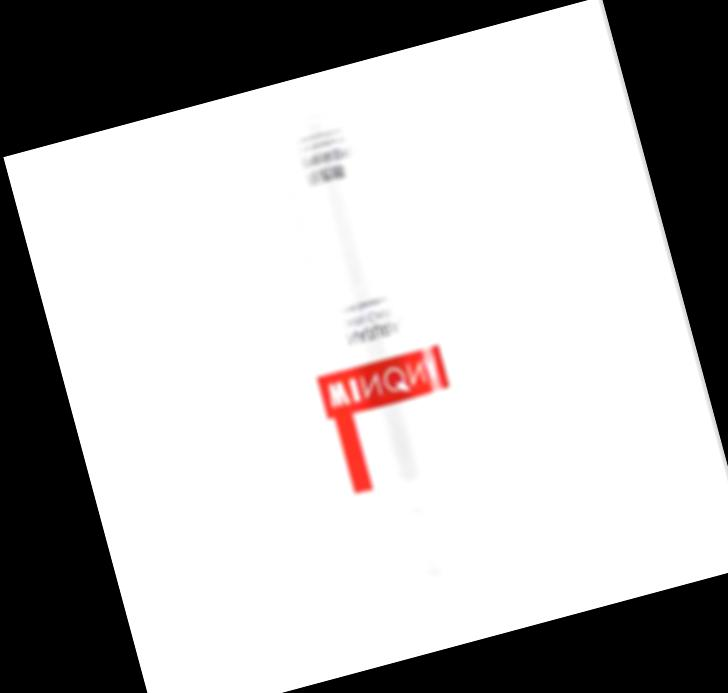cosmetic: (246, 96, 510, 635)
